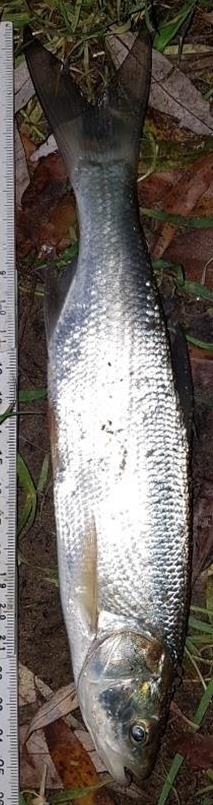Aspius aspius: (20, 20, 193, 785)
